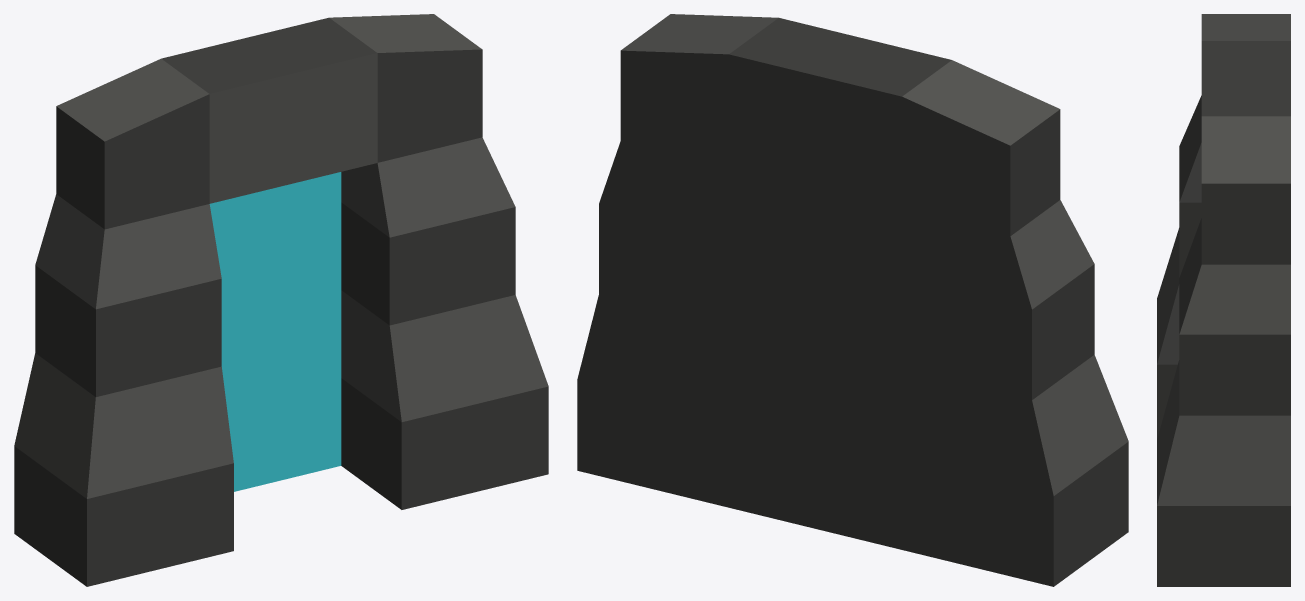
Rendered from exit.glb.
3 renders of one model, left to right at view 1: azimuth 30°, elevation 25°; view 2: azimuth 150°, elevation 25°; view 3: azimuth 270°, elevation 25°, orthographic. The views are drawn at different scales.
Visible parts, largest first — view 1: Cube; view 2: Cube; view 3: Cube.
Boxes of the visible parts, x1,y1,x2,y2 form: Cube: [14, 14, 548, 586]; Cube: [577, 14, 1128, 586]; Cube: [1157, 14, 1290, 586].
Bounding box in the file's own units: 2.2 × 2 × 0.6.
